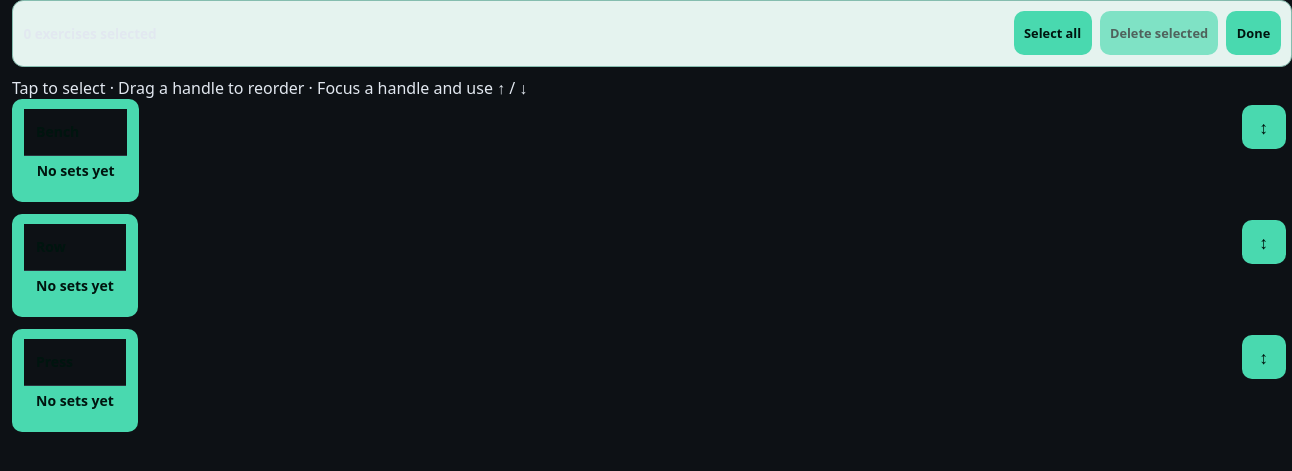
Test: rolls a failed drag back without changing the saved order
Press the mouse on the button named "Reorder Bench" at (1264, 127), box [1242,105,1286,149]
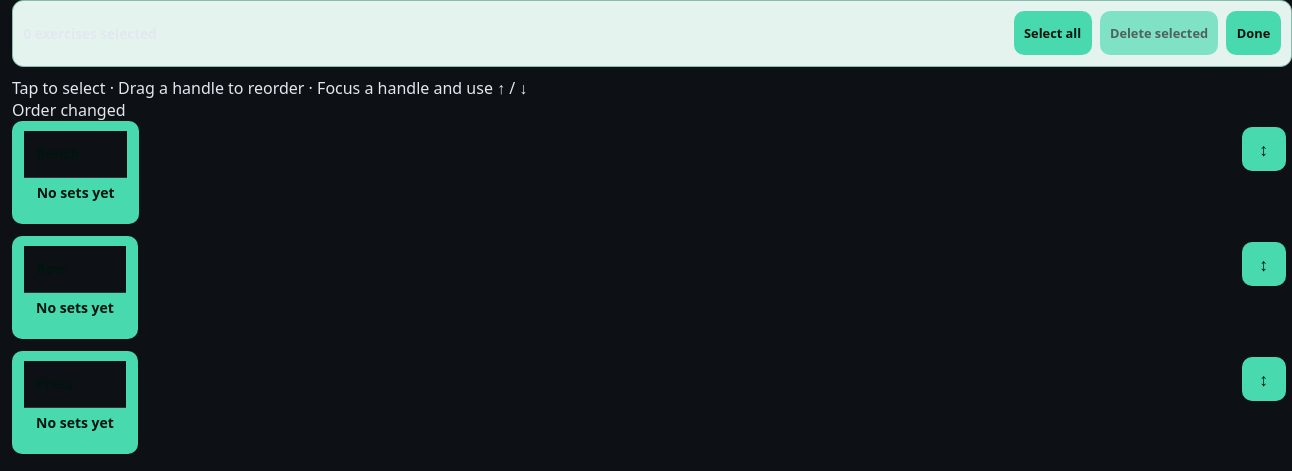
Check: the button named "Reorder Bench" is enabled, box [1242,127,1286,171]
Check: the message reads "Order changed", box [12,99,126,121]
